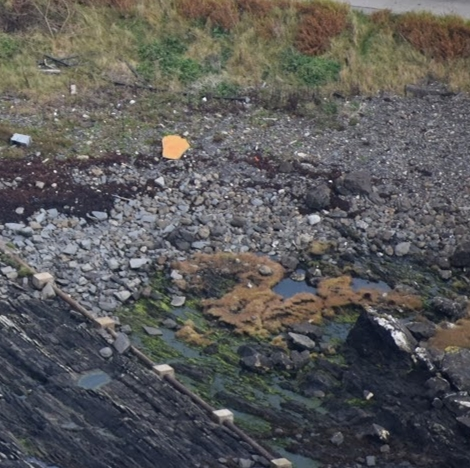tube: (158, 82, 252, 106), (96, 71, 157, 95), (35, 43, 77, 73)
white_in_green: (138, 115, 211, 176), (1, 111, 49, 165)
